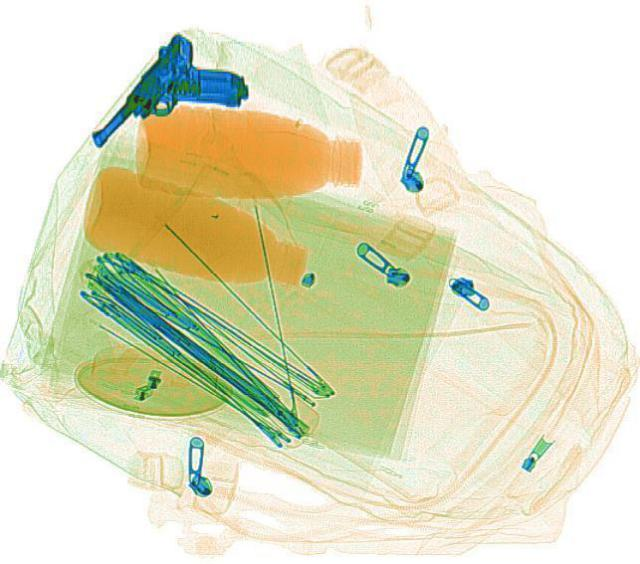Gun: (79, 29, 261, 184)
